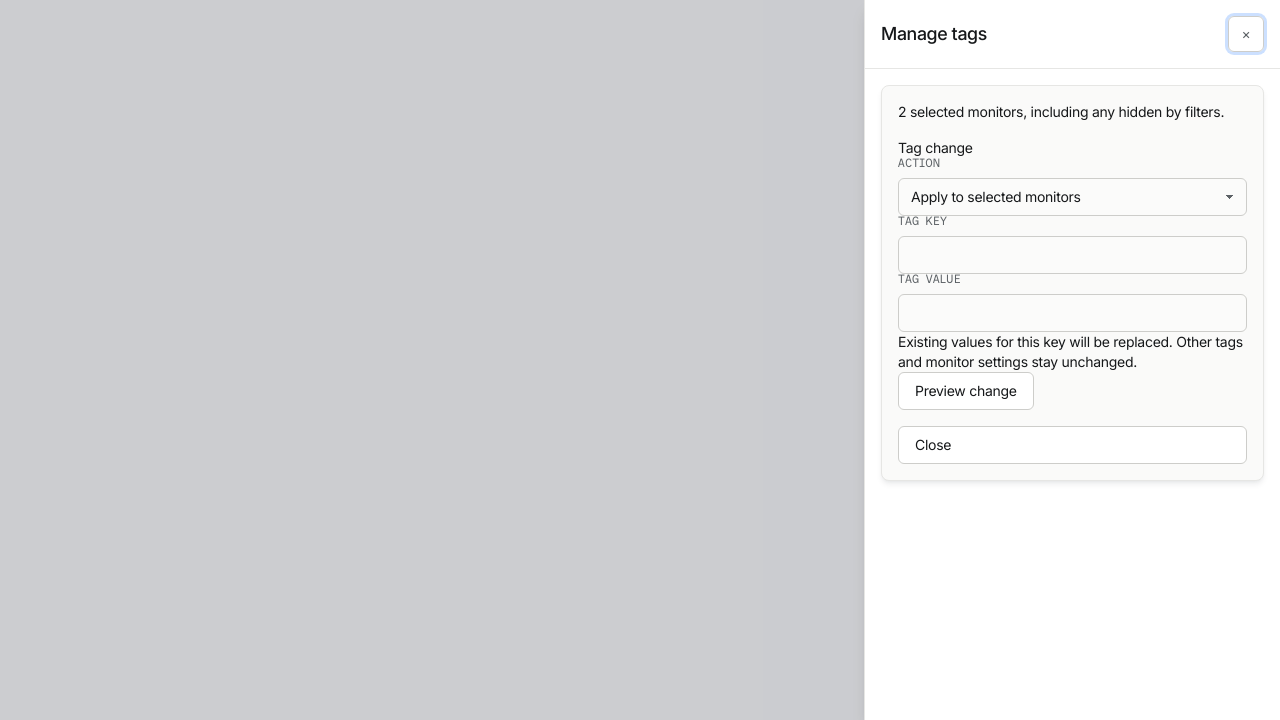
Scenario: invalidates a completed preview when key changes
Type "env" into the field labelled "Tag key". click: (1072,255)
box: [898,236,1247,274]
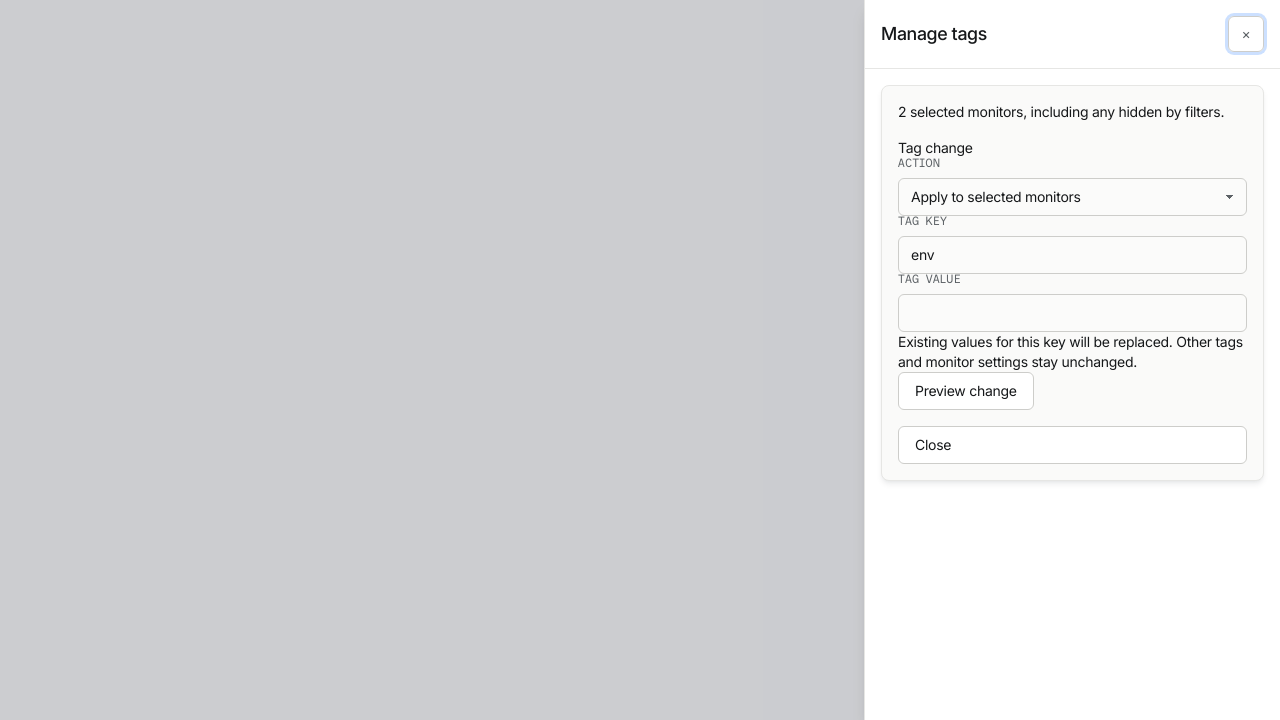
Type "prod" into the field labelled "Tag value". click: (1072,313)
box: [898,294,1247,332]
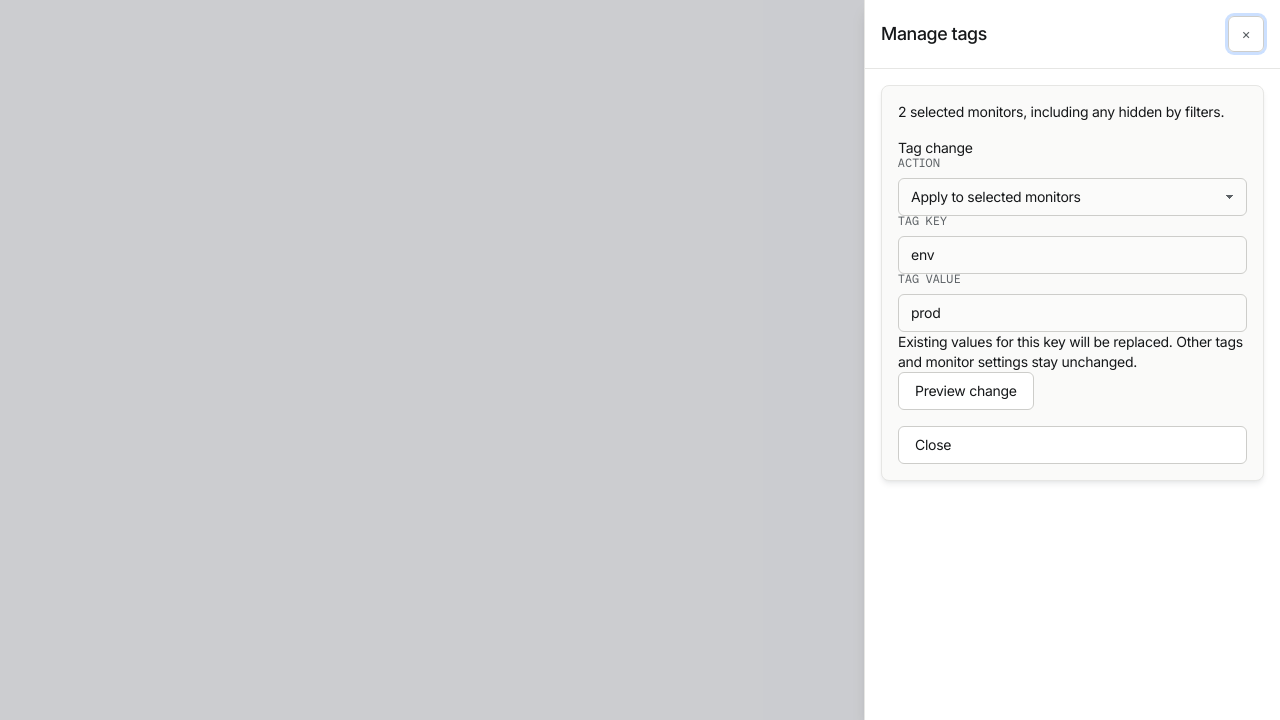
Click the button "Preview change". click: (966,391)
box: [898,372,1034,410]
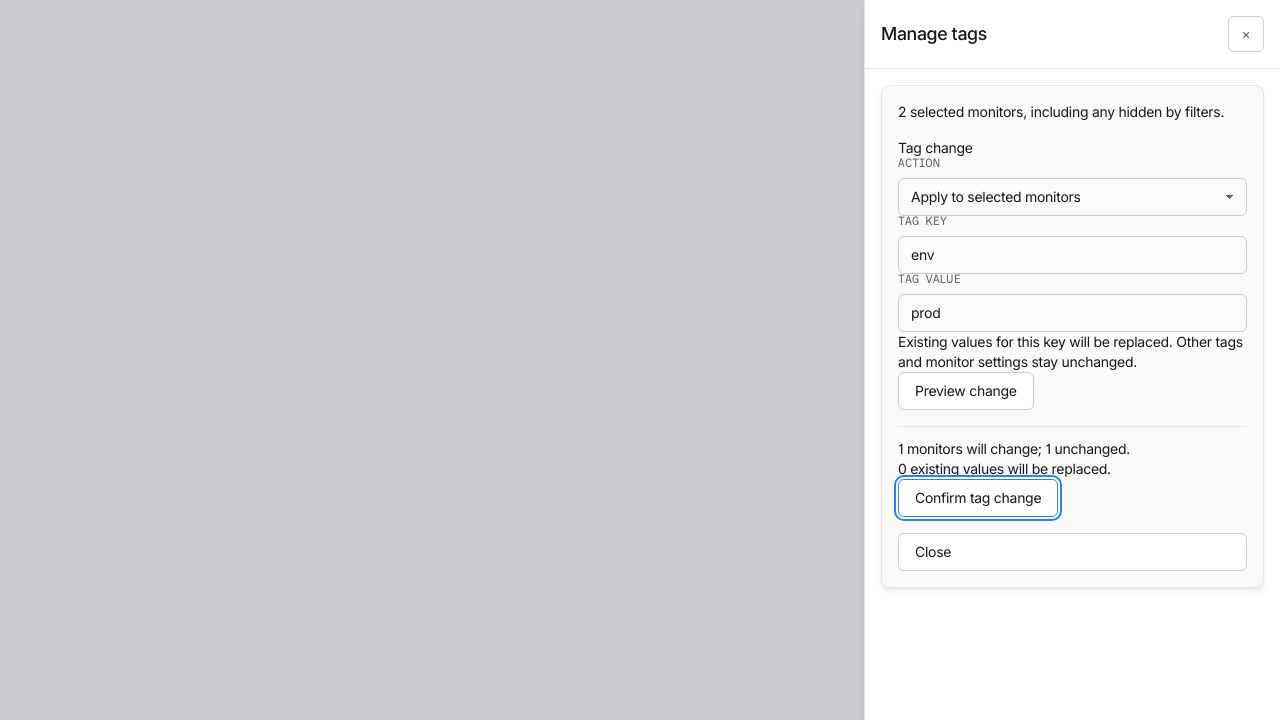
Now the button "Confirm tag change" is shown, box [898,479,1058,517]
Replace the text in the field labelled "Tag key" with "changed". click: (1072,255)
box: [898,236,1247,274]
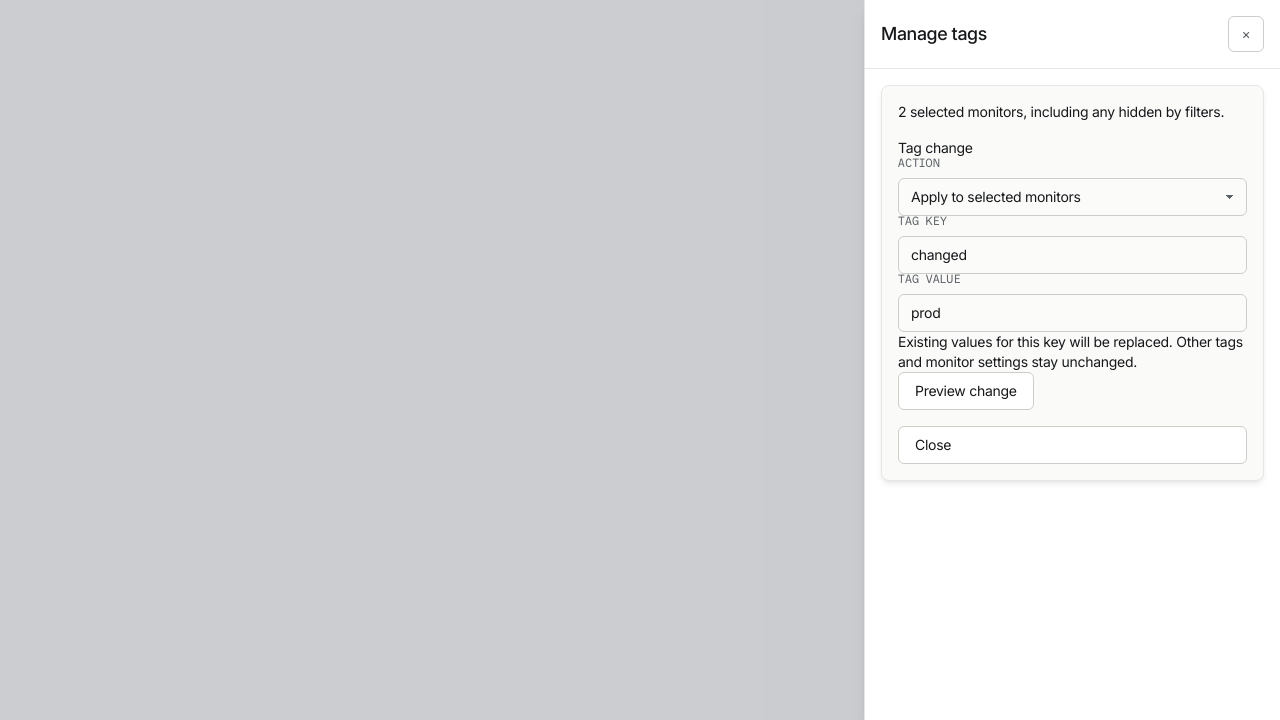
Now the button "Confirm tag change" is gone
